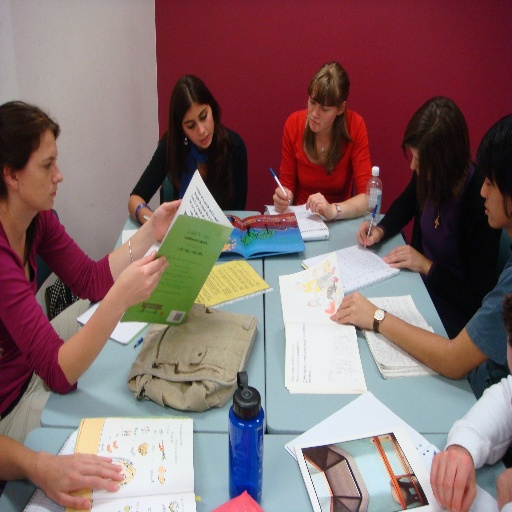hand: (37, 450, 125, 510), (114, 247, 168, 307), (440, 435, 480, 505), (327, 290, 376, 329), (381, 241, 426, 270), (151, 199, 180, 242), (304, 190, 332, 221), (496, 465, 511, 511), (271, 184, 293, 214), (356, 221, 380, 248)
